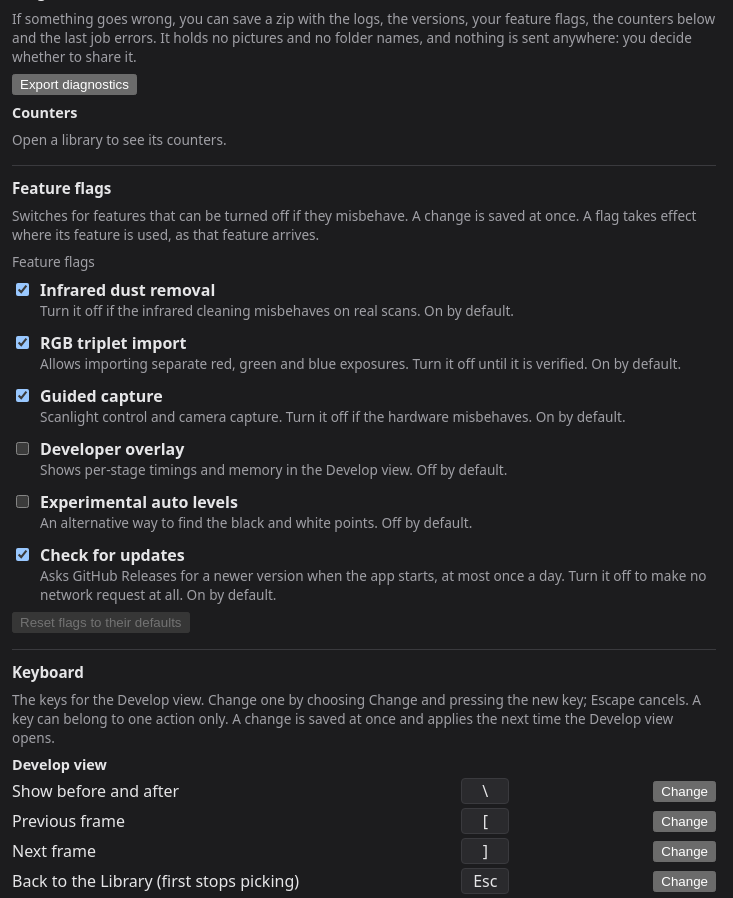
Test: SettingsView › the feature flags › saves a flag the moment it is switched, and marks it when it is not the default
(page scrolled)
Click the switch labelled "Developer overlay".
click(22, 448)  # box [16,442,29,455]
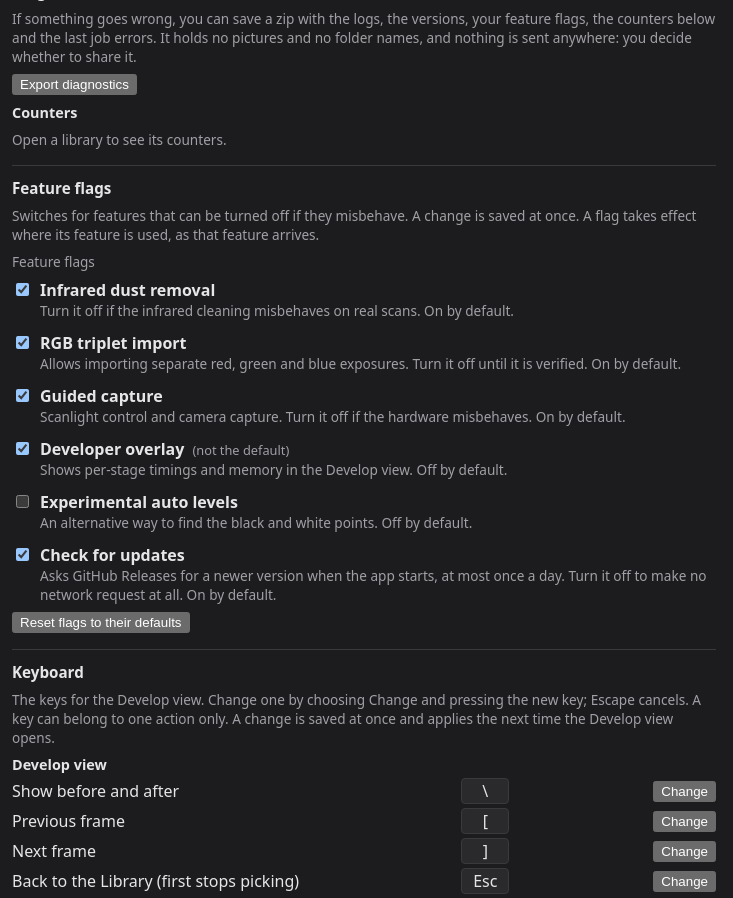
Expected: the switch labelled "Developer overlay" is checked, [16,442,29,455]
Expected: the text "(not the default)" is shown, [192,441,289,459]
Click the switch labelled "Infrared dust removal".
click(22, 290)  # box [16,283,29,296]
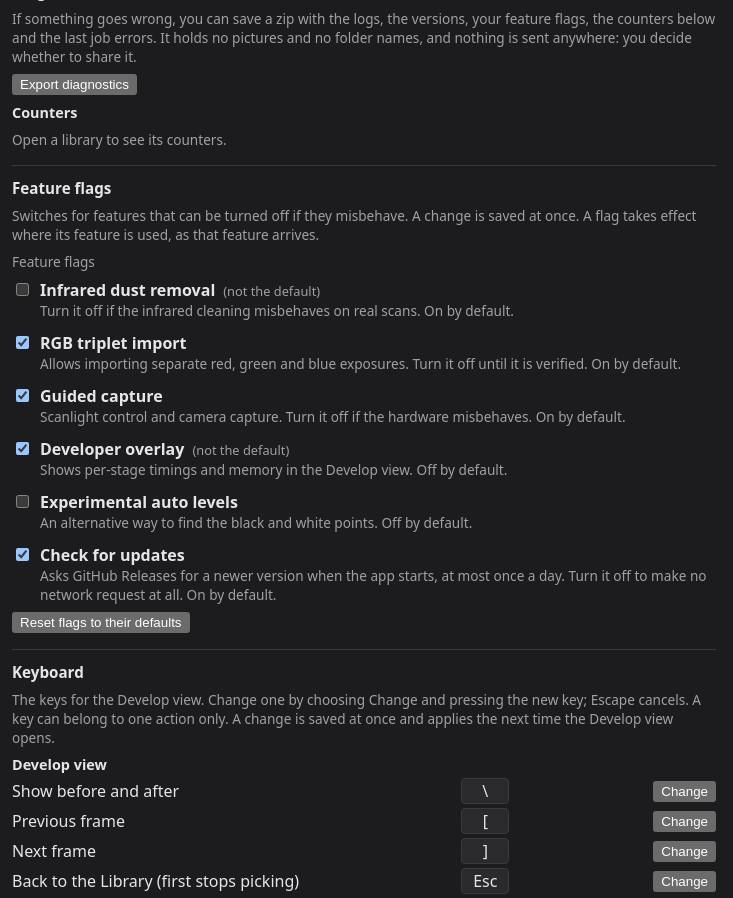
Expected: the switch labelled "Infrared dust removal" is not checked, [16,283,29,296]
Expected: the text "(not the default)" is shown 2 times, [223,282,320,300]; [192,441,289,459]
